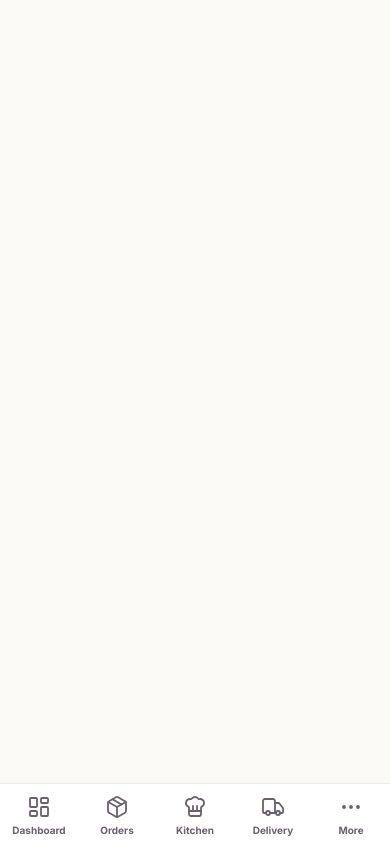
D.8: Responsive Admin Layout & Navigation › BottomNav renders primary admin tabs and more drawer with all required admin destinations
Check: the navigation bar named "Mobile navigation" is shown, box [0, 783, 389, 843]
Note: Click More button to open drawer
Click the button "More". click: [351, 814]
box: [312, 784, 389, 843]
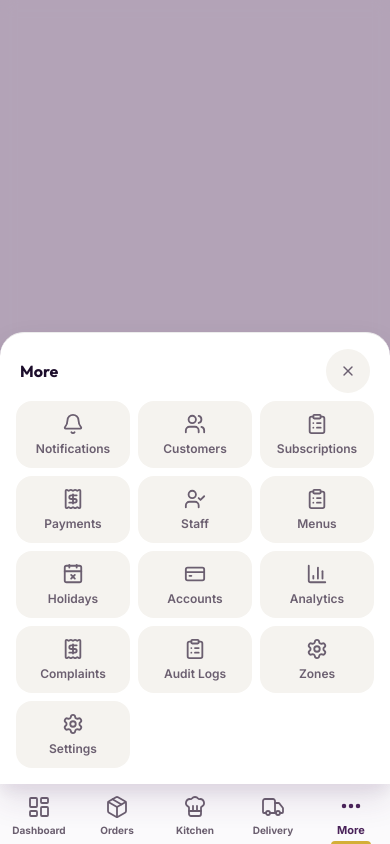
Check: the element with class "max-h-" is shown, box [0, 332, 389, 784]
